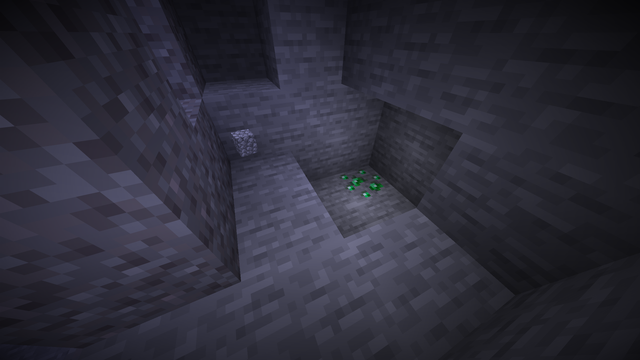emerald: (340, 166, 391, 201)
